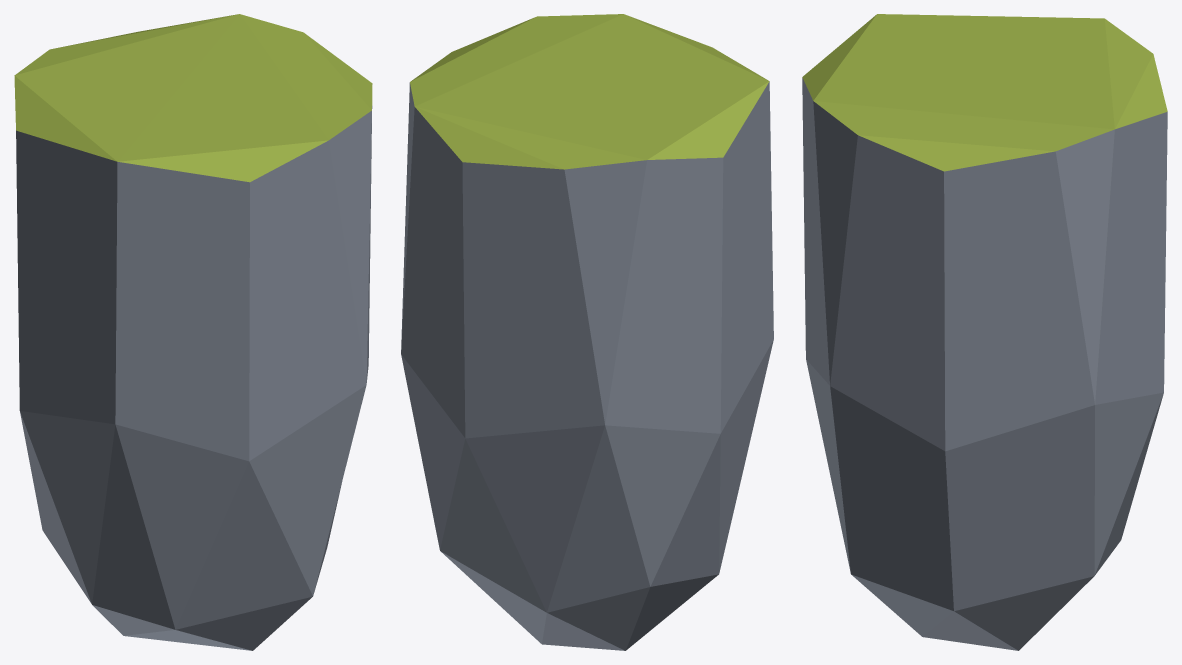
File: Single Platform1.fbx
3 views of the same model, side by side, from view 1: azimuth 30°, elevation 25°; view 2: azimuth 150°, elevation 25°; view 3: azimuth 270°, elevation 25° (orthographic).
Visible parts, largest first — view 1: Cube.002; view 2: Cube.002; view 3: Cube.002.
Boxes of the visible parts, x1,y1,x2,y2 form: Cube.002: (14,14,372,650); Cube.002: (401,14,773,650); Cube.002: (802,14,1167,650).
Size of the model in its own units: 180 by 306 by 180.
